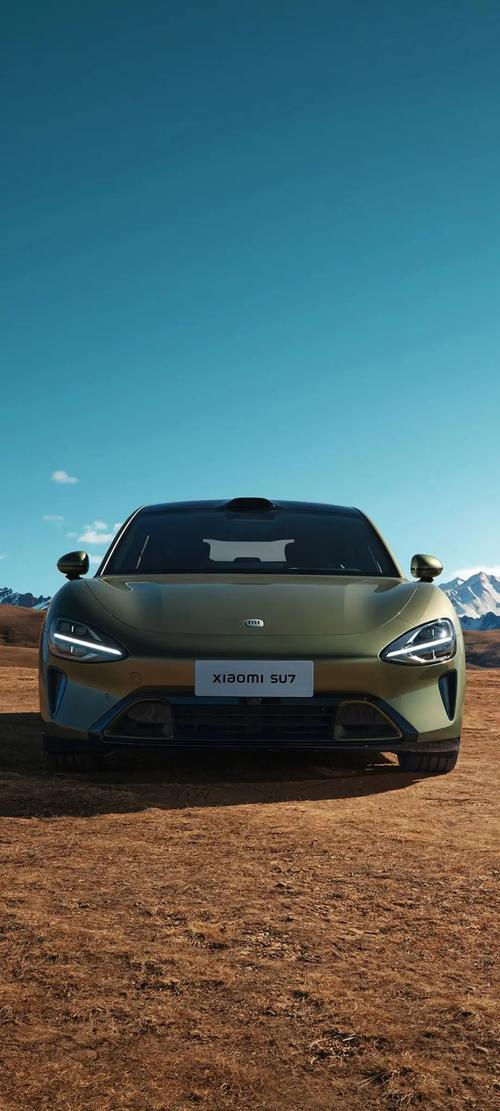su7: (32, 491, 455, 778)
